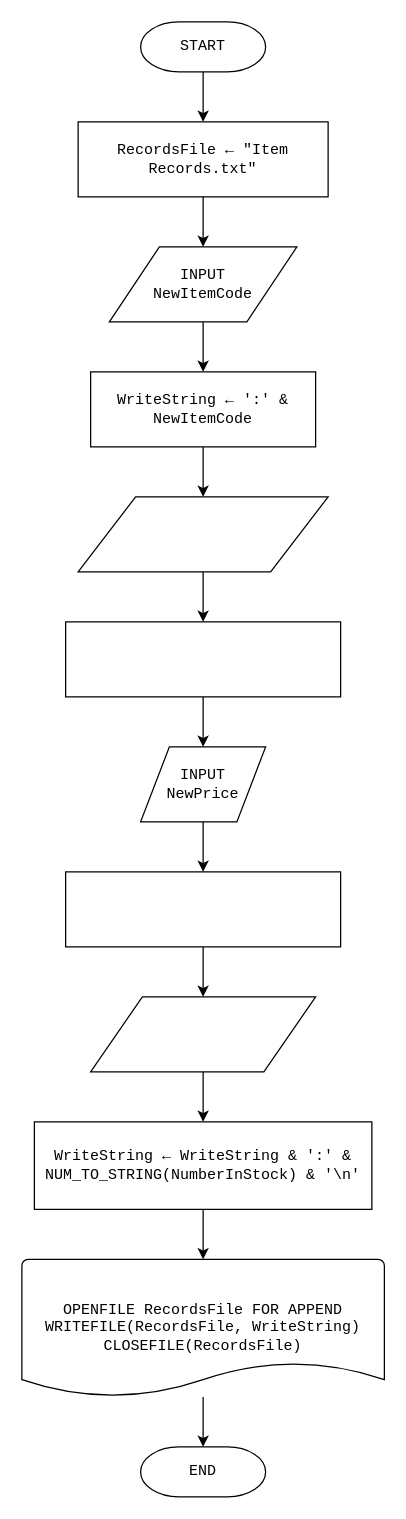
Image size: 406x1519. Some labels were removed from this diagram. The shapes that lost their labels are listed below. From the top down, each one's centre as x and y in pixels, then its label:
the point at 202,534: INPUT NewItemDescription
the point at 202,659: WriteString ← WriteString & ':' & NewItemDescription
the point at 202,909: WriteString ← WriteString & ':' & NUM_TO_STRING(NewPrice)
the point at 202,1034: INPUT NewNumberInStock
